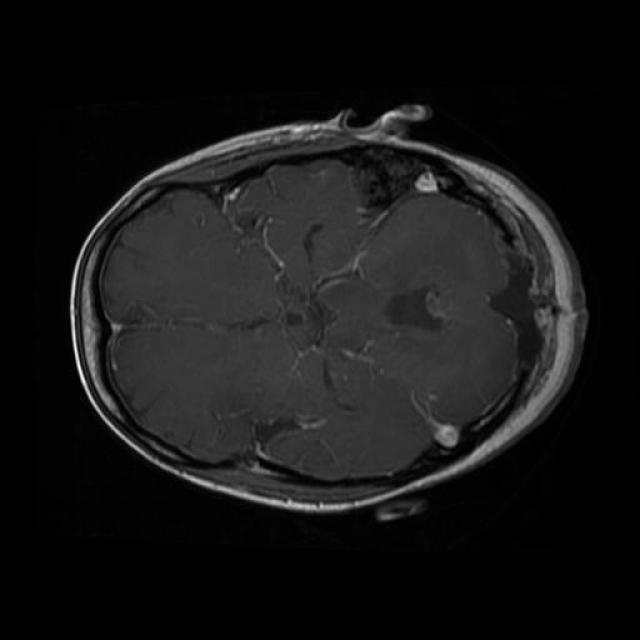Glioma: (410, 391, 455, 441), (365, 148, 386, 217)
